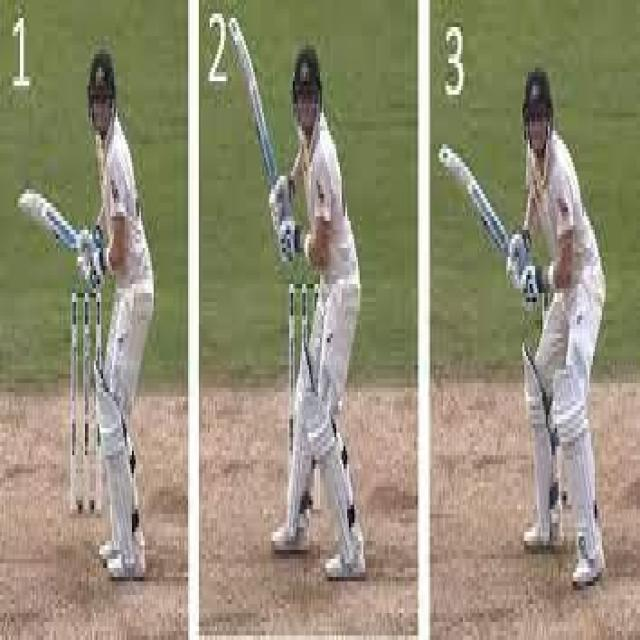bat: (225, 14, 278, 188), (434, 148, 514, 255), (17, 175, 77, 259)
toe: (437, 140, 458, 185), (224, 14, 246, 55), (11, 184, 31, 224)
